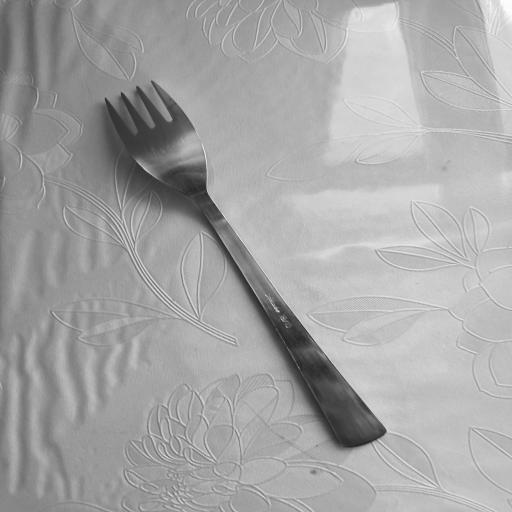fork: (98, 75, 394, 447)
